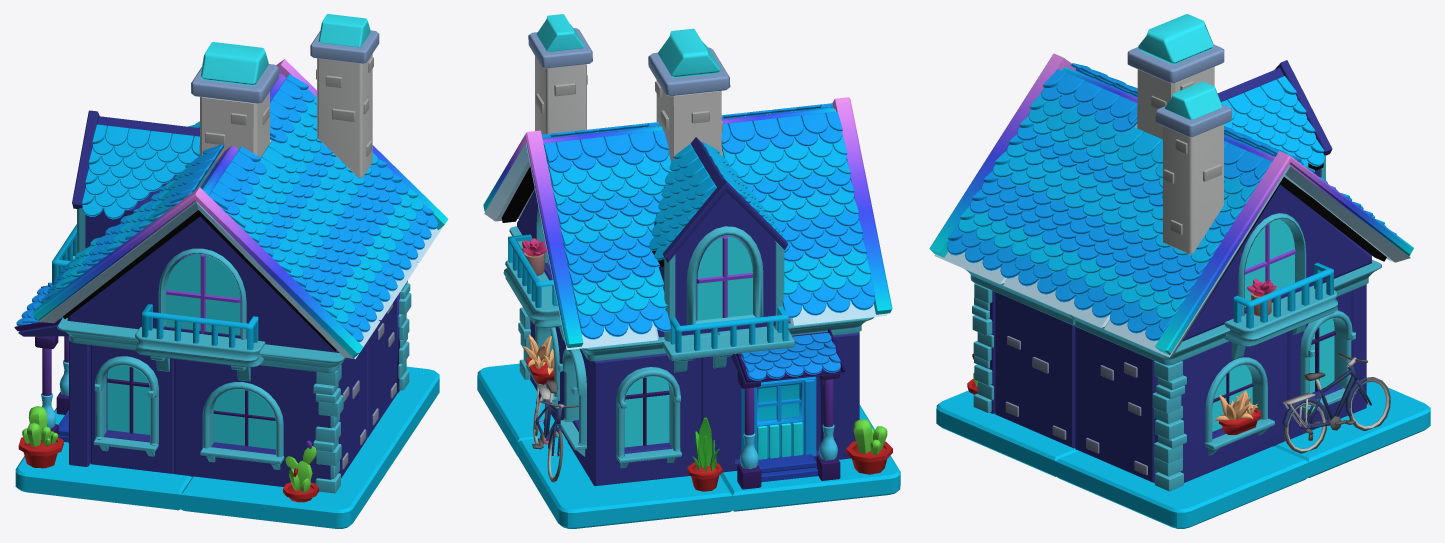
Rendered from lvl_11.fbx.
3 renders of one model, left to right at view 1: azimuth 30°, elevation 25°; view 2: azimuth 150°, elevation 25°; view 3: azimuth 270°, elevation 25°, orthographic. The views are drawn at different scales.
Visible parts, largest first — view 1: House_03_47, House_03_48, House_03_57, House_03_36, House_03_55, House_03_21, House_03_81, House_03_98, House_03_24, House_03_84, House_03_12, House_03_34 (+40 smaller); view 2: House_03_70, House_03_32, House_03_58, House_03_56, House_03_52, House_03_7, House_03_20, House_03_41, House_03_15, House_03_21, House_03_88, House_03_28 (+45 smaller); view 3: House_03_55, House_03_75, House_03_89, House_03_81, House_03_94, House_03_93, House_03_98, House_03_76, House_03_58, House_03_67, House_03_102, House_03_88 (+39 smaller).
Boxes of the visible parts, <box> form: House_03_47: <box>174,359,332,486</box>; House_03_48: <box>67,216,339,352</box>; House_03_57: <box>180,438,396,528</box>; House_03_36: <box>81,124,199,219</box>; House_03_55: <box>208,146,330,278</box>; House_03_21: <box>15,408,191,510</box>; House_03_81: <box>322,195,418,311</box>; House_03_98: <box>316,54,373,178</box>; House_03_24: <box>32,187,363,358</box>; House_03_84: <box>270,74,378,205</box>; House_03_12: <box>91,345,174,473</box>; House_03_34: <box>166,254,240,335</box>; House_03_70: <box>543,130,671,246</box>; House_03_32: <box>721,111,858,222</box>; House_03_58: <box>517,436,732,528</box>; House_03_56: <box>563,228,671,339</box>; House_03_52: <box>589,354,701,485</box>; House_03_7: <box>771,207,874,318</box>; House_03_20: <box>701,332,859,472</box>; House_03_41: <box>654,186,784,341</box>; House_03_15: <box>741,376,816,459</box>; House_03_21: <box>720,405,900,511</box>; House_03_88: <box>483,130,583,347</box>; House_03_28: <box>696,235,752,320</box>; House_03_55: <box>992,69,1137,209</box>; House_03_75: <box>995,292,1075,448</box>; House_03_89: <box>1055,446,1308,528</box>; House_03_81: <box>1000,199,1146,318</box>; House_03_94: <box>1075,326,1154,482</box>; House_03_93: <box>1154,332,1287,483</box>; House_03_98: <box>1163,124,1223,254</box>; House_03_76: <box>1182,184,1371,341</box>; House_03_58: <box>1274,381,1430,477</box>; House_03_67: <box>947,171,1051,270</box>; House_03_102: <box>1105,238,1208,341</box>; House_03_88: <box>1155,151,1413,355</box>.
Bounding box in the file's own units: 21.86 × 19.49 × 22.03.
